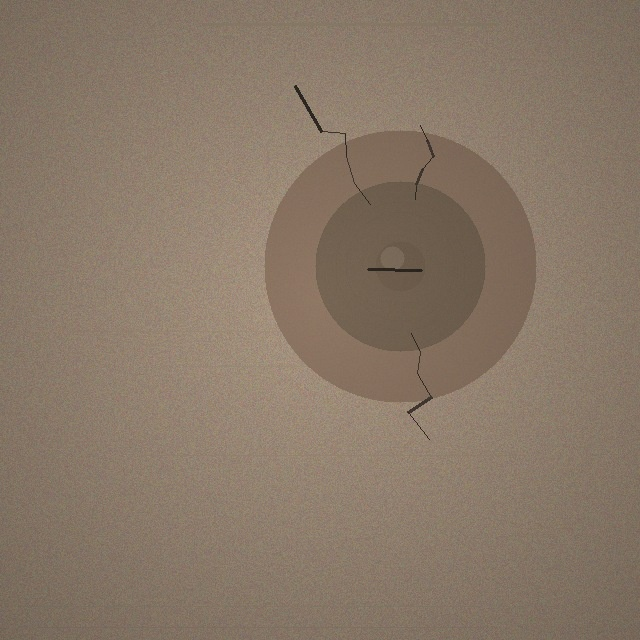crack: (264, 130, 536, 402)
